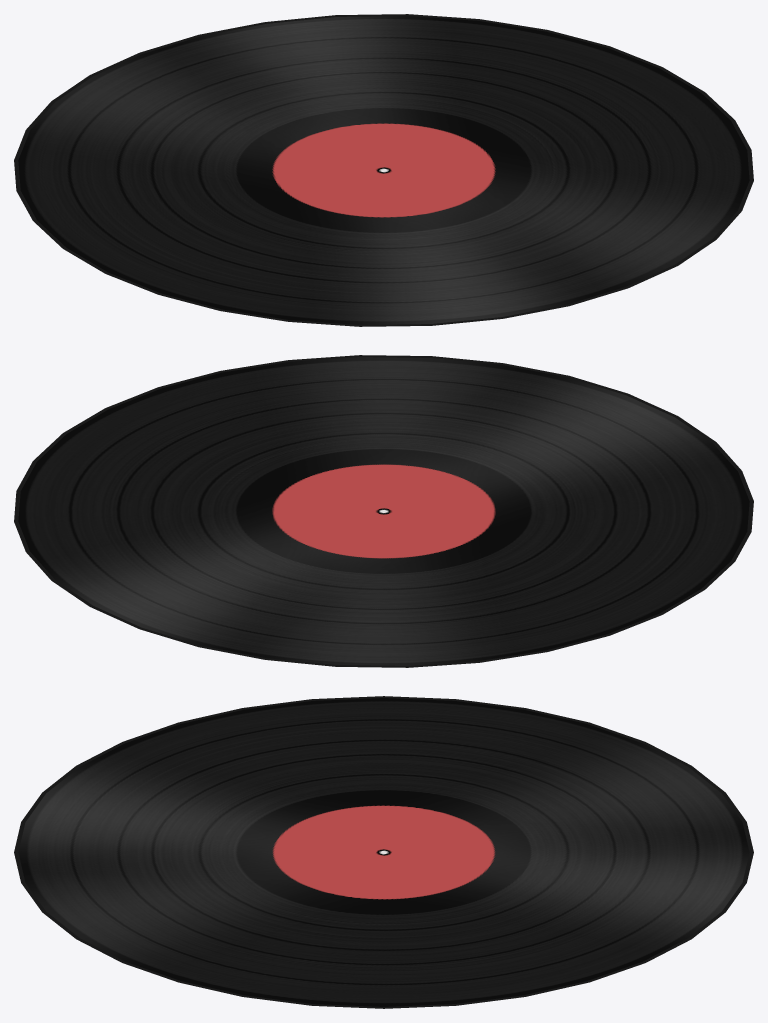
Rendered from disk1.glb.
3 renders of one model, top to bottom at view 1: azimuth 30°, elevation 25°; view 2: azimuth 150°, elevation 25°; view 3: azimuth 270°, elevation 25°, orthographic.
Parts seen in each view (by area): view 1: Cylinder.007; view 2: Cylinder.007; view 3: Cylinder.007.
Part boxes in pixels (x1=…): Cylinder.007: x1=14, y1=14, x2=753, y2=326; Cylinder.007: x1=14, y1=355, x2=753, y2=667; Cylinder.007: x1=14, y1=696, x2=753, y2=1008.
Size of the model in its own units: 1.64 by 0 by 1.64.
Materials: 2 (1 with a texture image).
